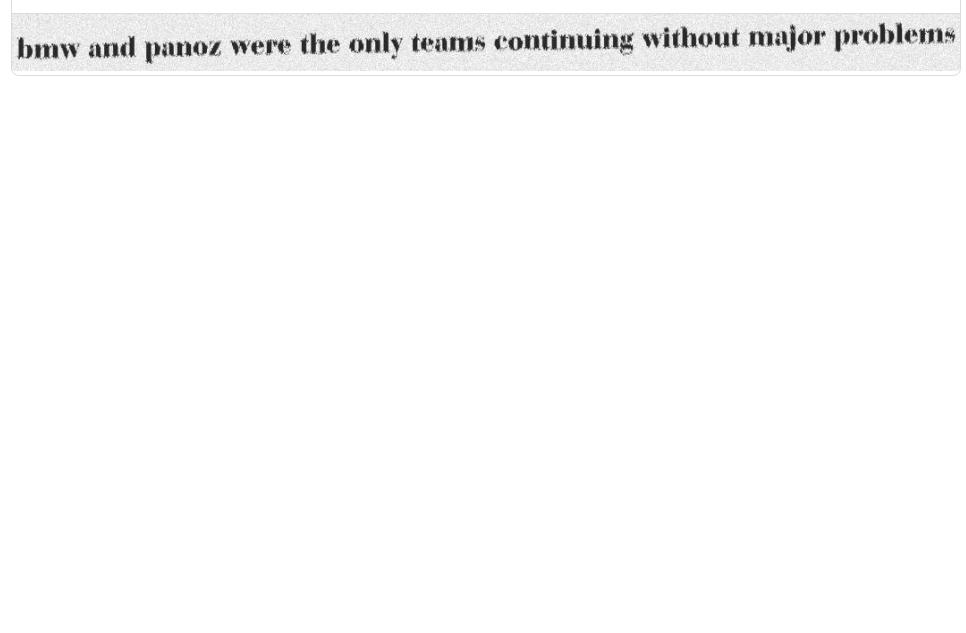text: (15, 16, 960, 67)
